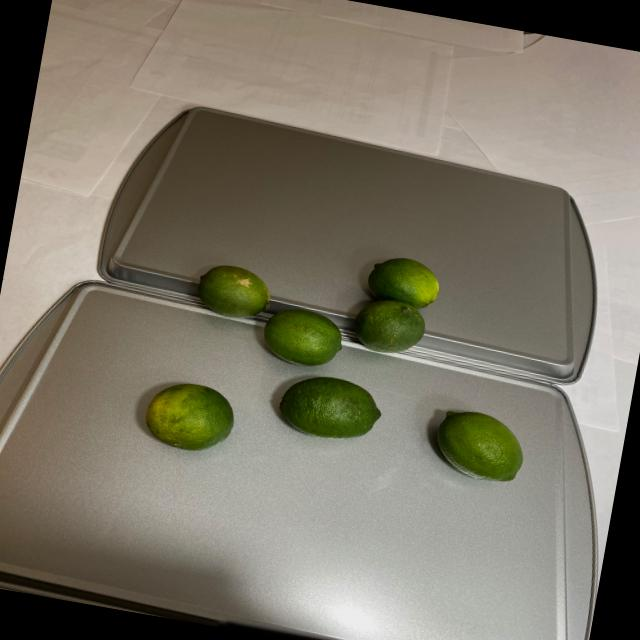lemon: (134, 213, 442, 488), (426, 404, 535, 492)
